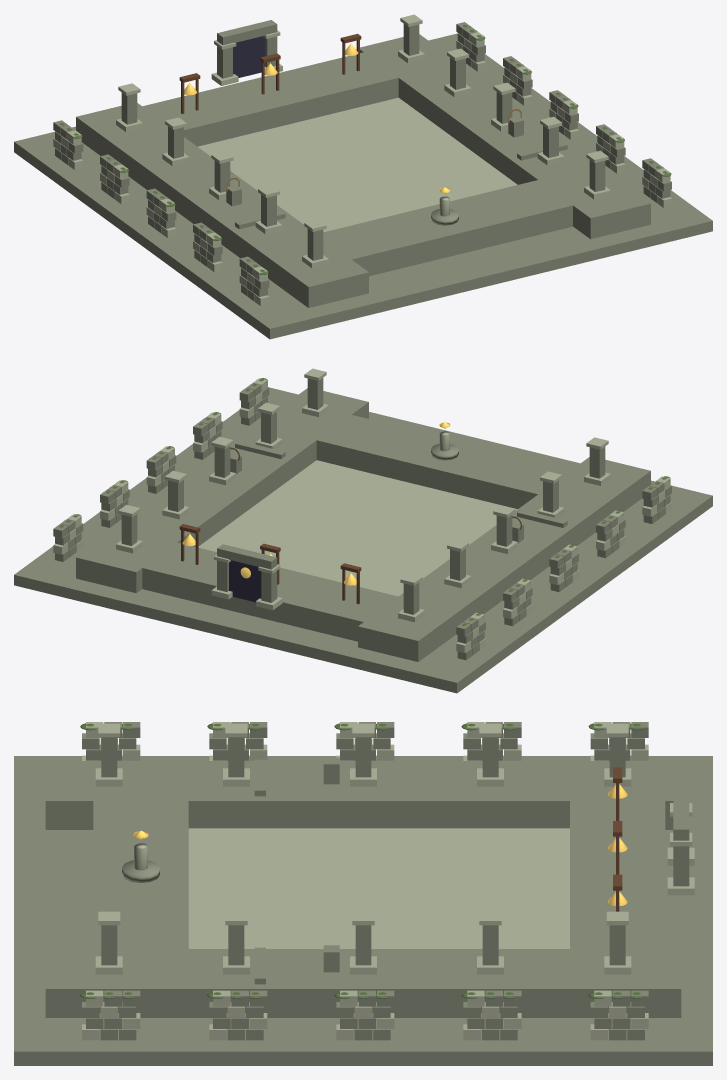
File: abbey_restored.glb
3 views of the same model, one above another, from view 1: azimuth 30°, elevation 25°; view 2: azimuth 150°, elevation 25°; view 3: azimuth 270°, elevation 25° (orthographic). The views are drawn at different scales.
Visible parts, largest first — view 1: upper_walkway (×2), ground, balcony (×2), nave_water, door, lintel; view 2: upper_walkway (×2), ground, nave_water, balcony (×2), door, lintel; view 3: upper_walkway (×2), ground, nave_water, balcony (×2), column (×11), lintel, base.
Part boxes in pixels (x1=…): upper_walkway (×2): x1=76, y1=34, x2=650, y2=307; ground: x1=14, y1=33, x2=712, y2=339; balcony (×2): x1=114, y1=45, x2=602, y2=276; nave_water: x1=198, y1=97, x2=517, y2=232; door: x1=233, y1=36, x2=265, y2=77; lintel: x1=217, y1=20, x2=277, y2=45; upper_walkway (×2): x1=76, y1=388, x2=650, y2=661; ground: x1=14, y1=387, x2=712, y2=693; nave_water: x1=198, y1=460, x2=517, y2=596; balcony (×2): x1=142, y1=410, x2=590, y2=641; door: x1=229, y1=560, x2=261, y2=602; lintel: x1=217, y1=544, x2=277, y2=569; upper_walkway (×2): x1=45, y1=761, x2=681, y2=1017; ground: x1=14, y1=756, x2=712, y2=1065; nave_water: x1=188, y1=828, x2=569, y2=948; balcony (×2): x1=93, y1=781, x2=665, y2=968; column (×11): x1=101, y1=737, x2=689, y2=965; lintel: x1=673, y1=793, x2=689, y2=840; base: x1=122, y1=860, x2=159, y2=882.
Bounding box in the file's own units: 22 × 3.7 × 22.
